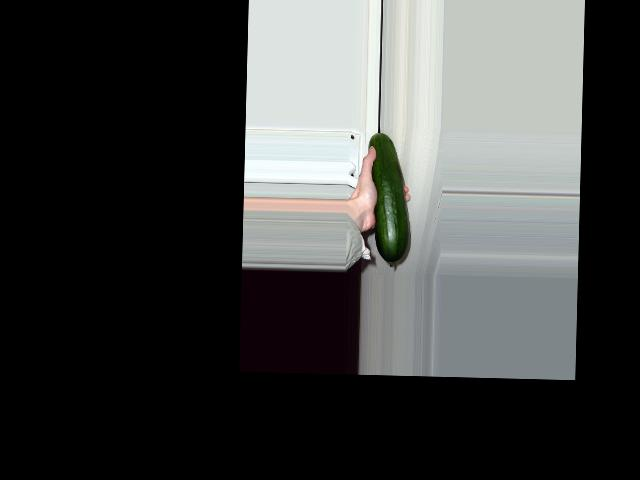cucumber: (366, 132, 413, 267)
